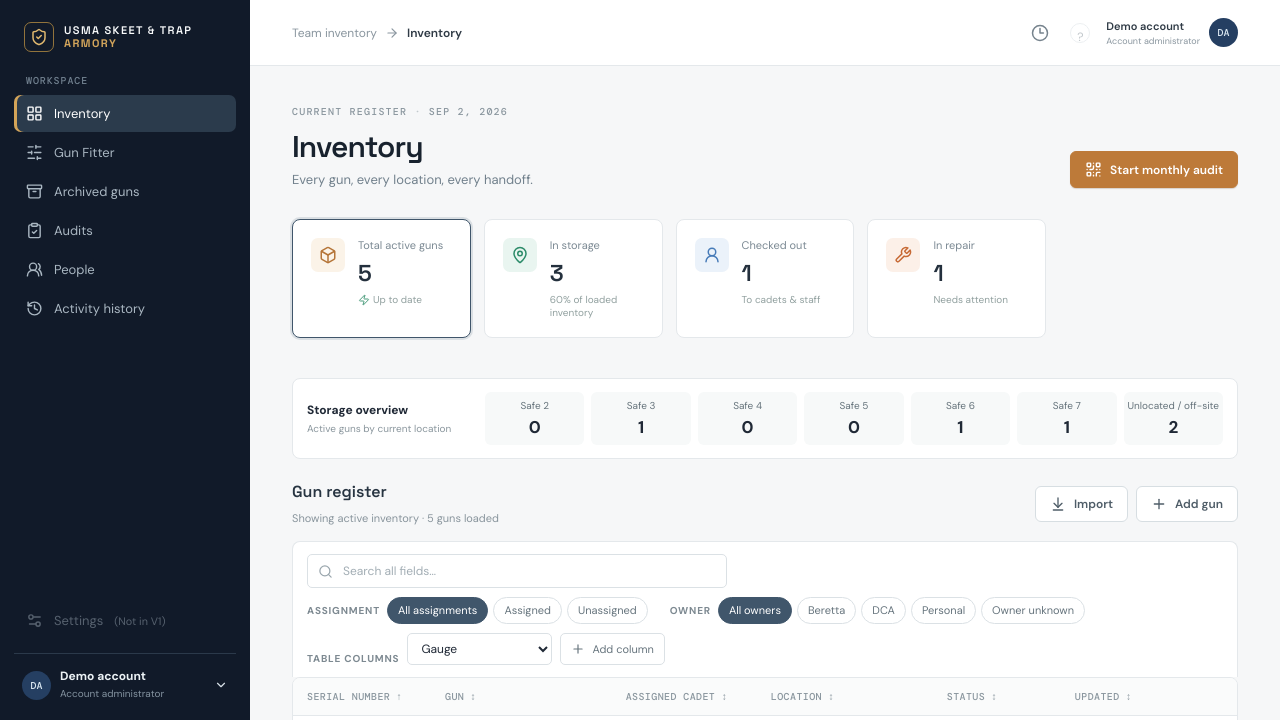
Test case: armory workflow › shows live safe counts and composes location filters with assignment
The width and height of the screenshot is (1280, 720).
Expected: the element named "storage location overview" is shown, [292,378,1238,459]
Expected: the button with aria-label "filter inventory to unlocated or off-site guns, 2 guns" is shown, [1124,392,1223,445]
Click the button with aria-label "filter inventory to safe 7, 1 guns" at [1067, 418], box [1017,392,1116,445]
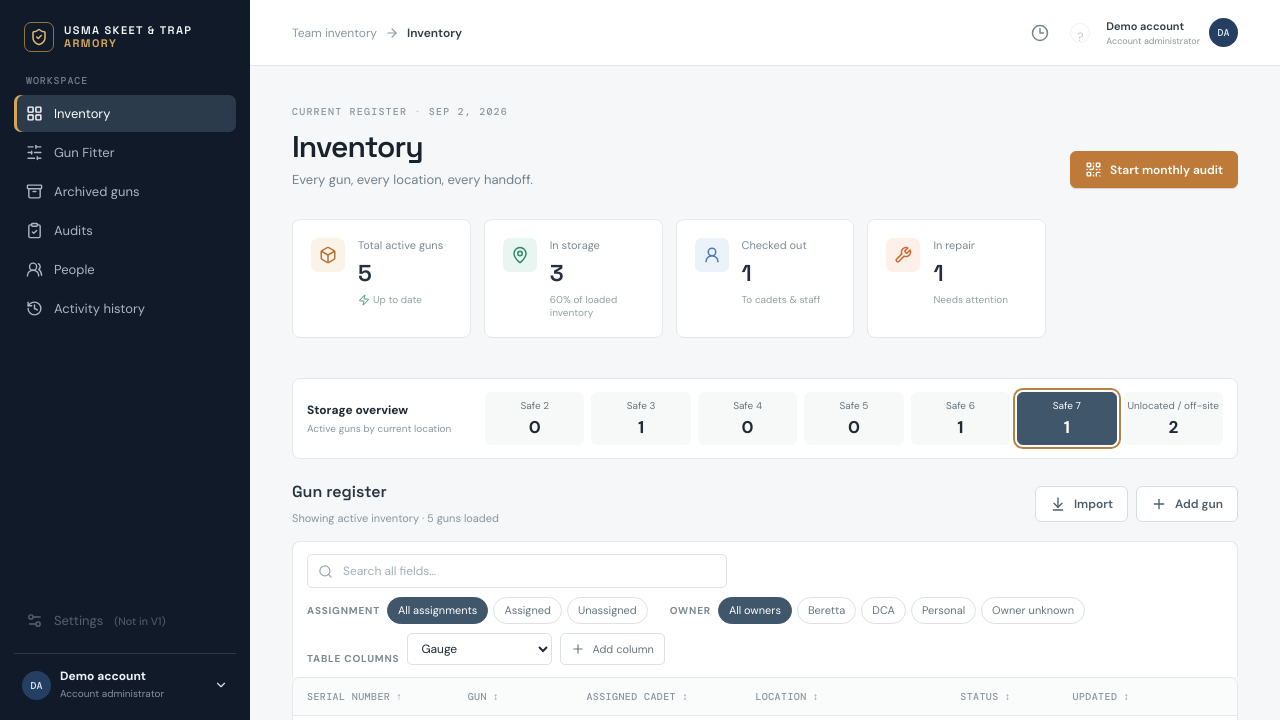
Click the button with aria-label "Show all active guns" at [381, 278], box [292,219,471,338]
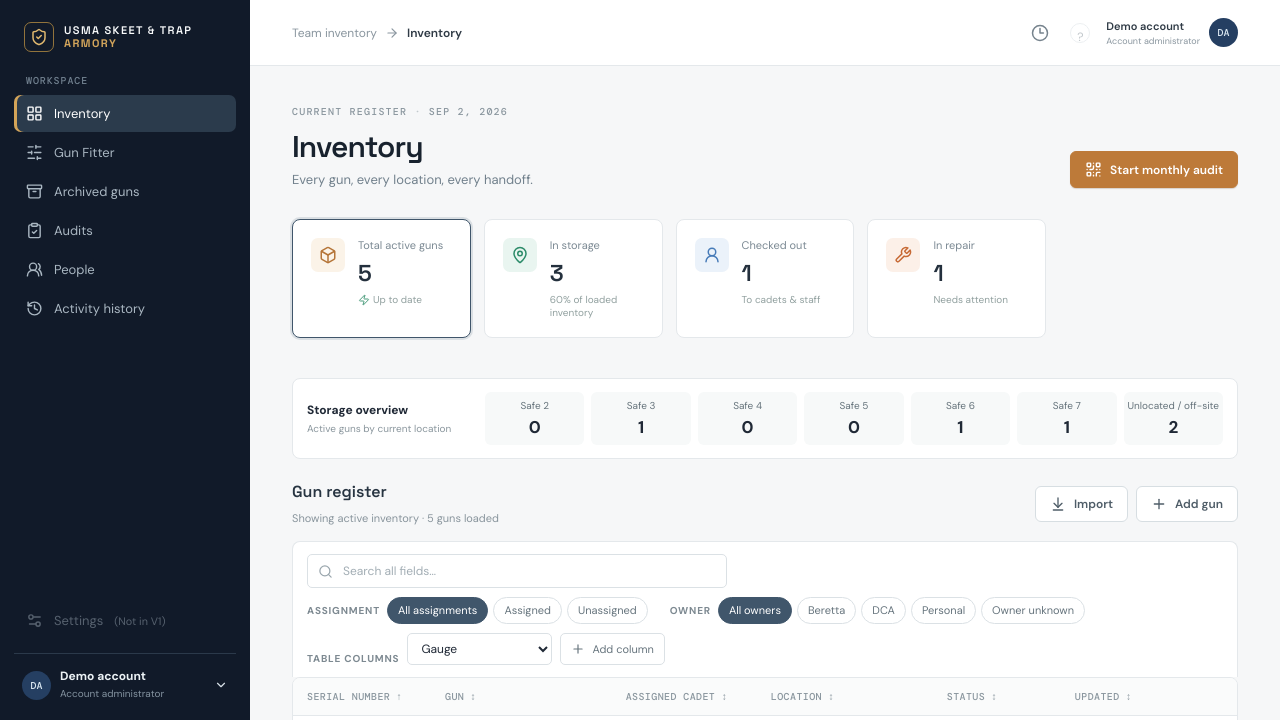
Click the button with aria-label "filter inventory to safe 6, 1 guns" at [960, 418], box [911,392,1010,445]
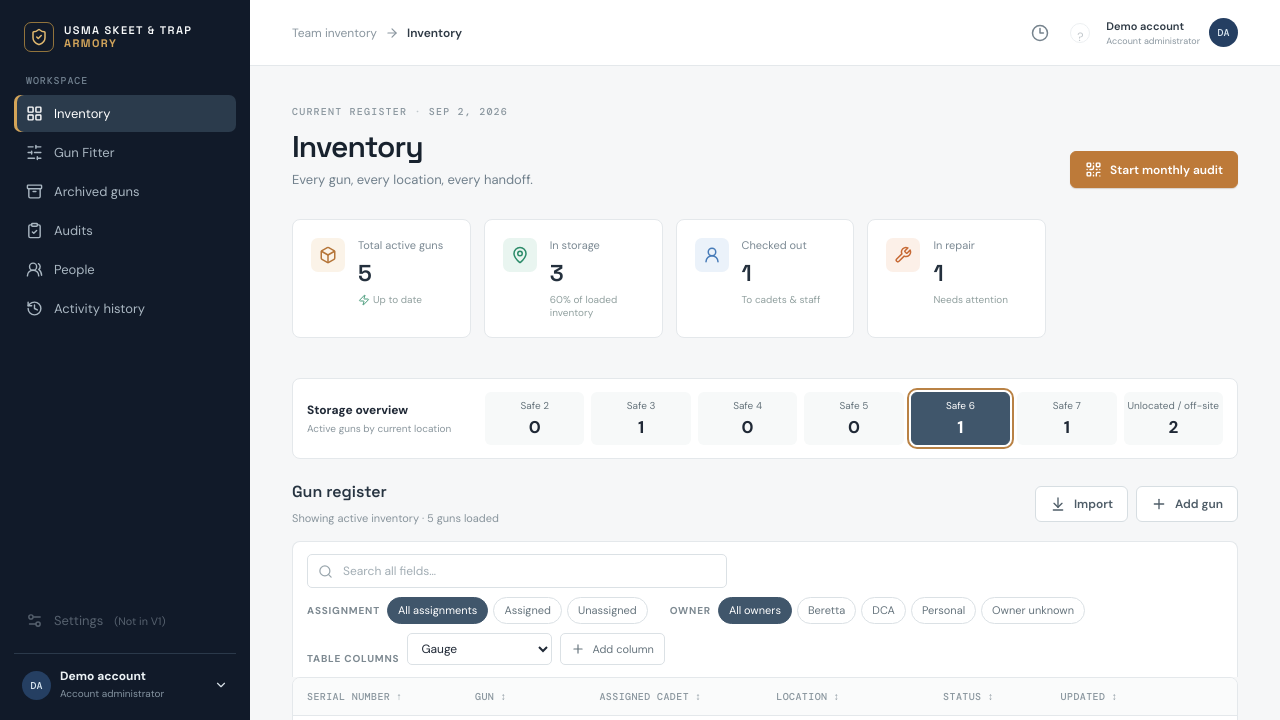
Click the button "Unassigned" at [607, 610], box [567,597,648,624]
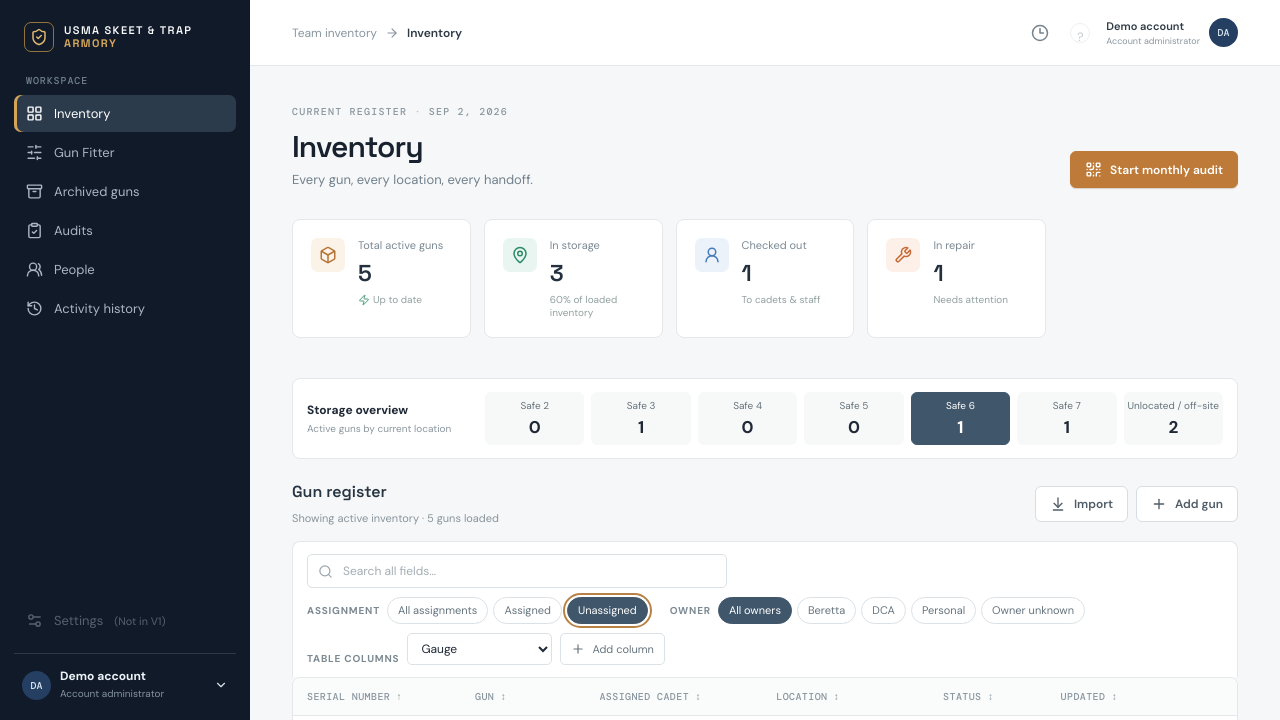
Expected: the button with aria-label "filter inventory to safe 6, 1 guns" is shown, [911,392,1010,445]
Click the button with aria-label "filter inventory to unlocated or off-site guns, 2 guns" at [1173, 418], box [1124,392,1223,445]
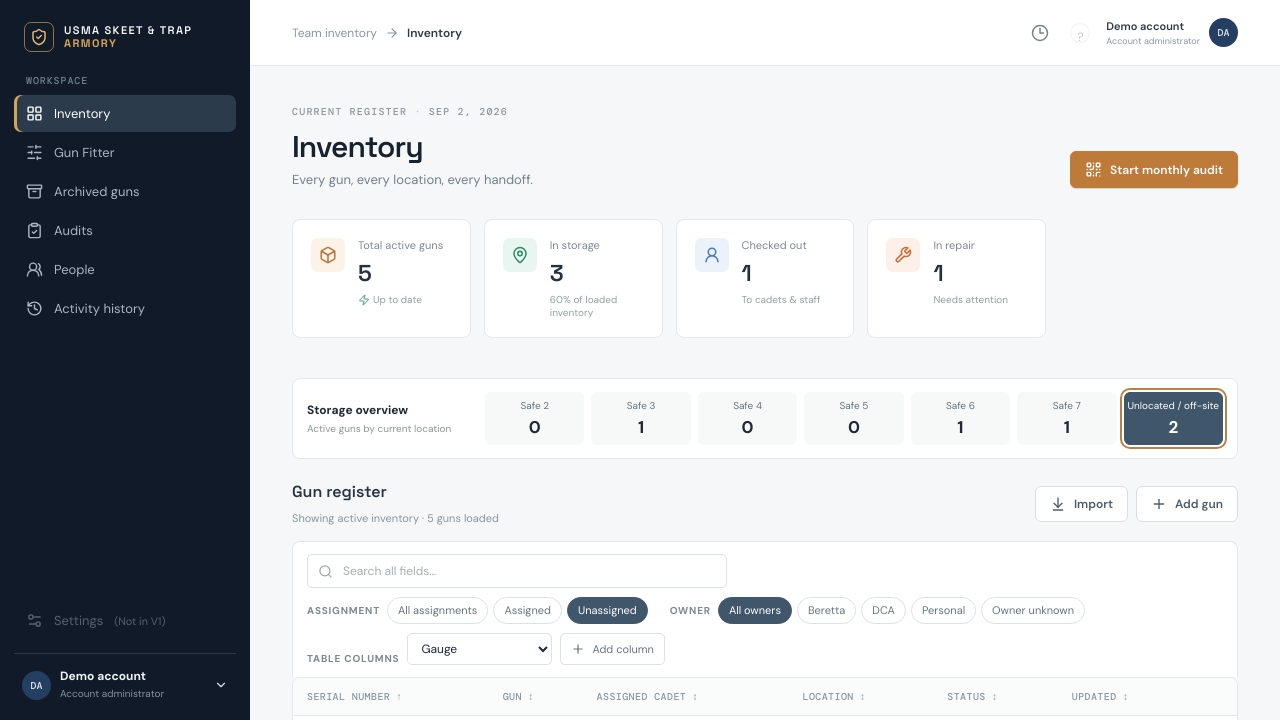
Click the button "Assigned" at [528, 610], box [493,597,562,624]
(page scrolled)
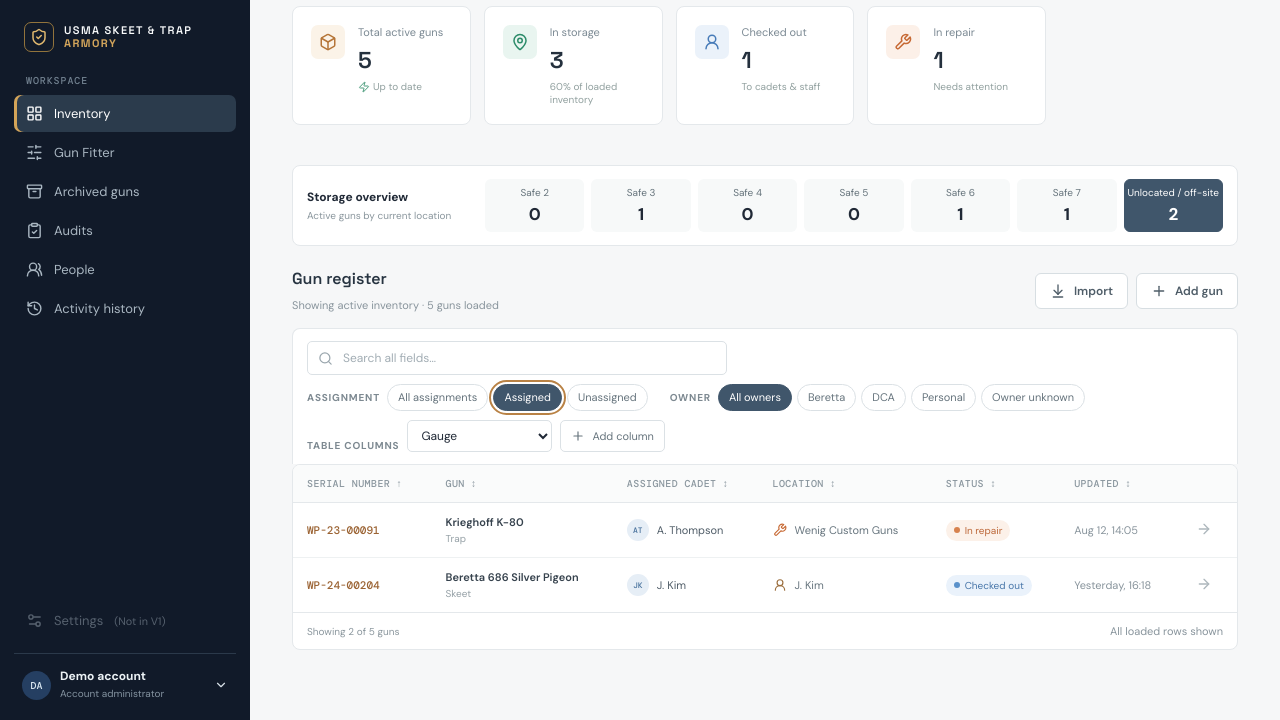
Now the button "WP-24-00204" is shown, box [307,578,380,592]
